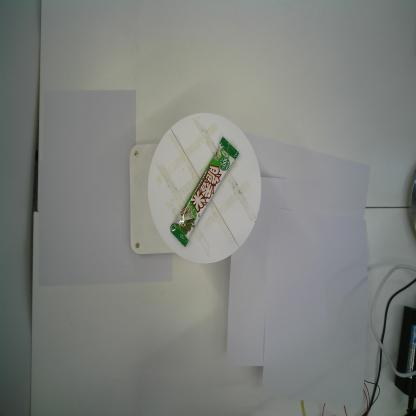Chocolate: (170, 136, 239, 247)
